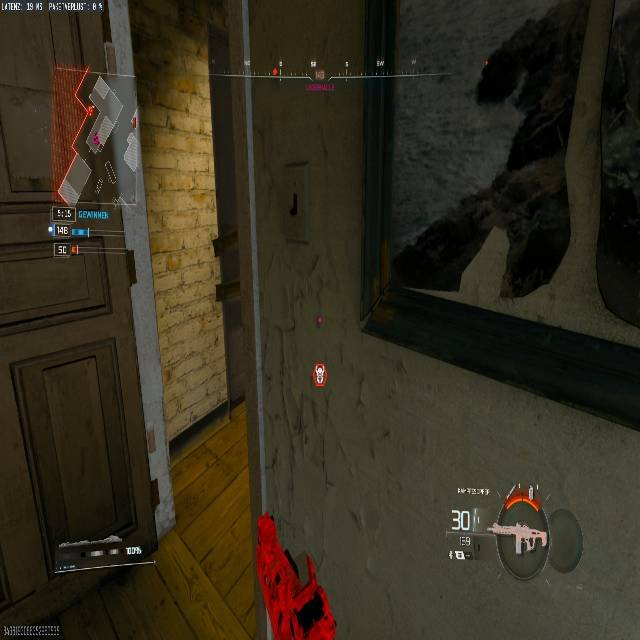player: (388, 2, 639, 304)
